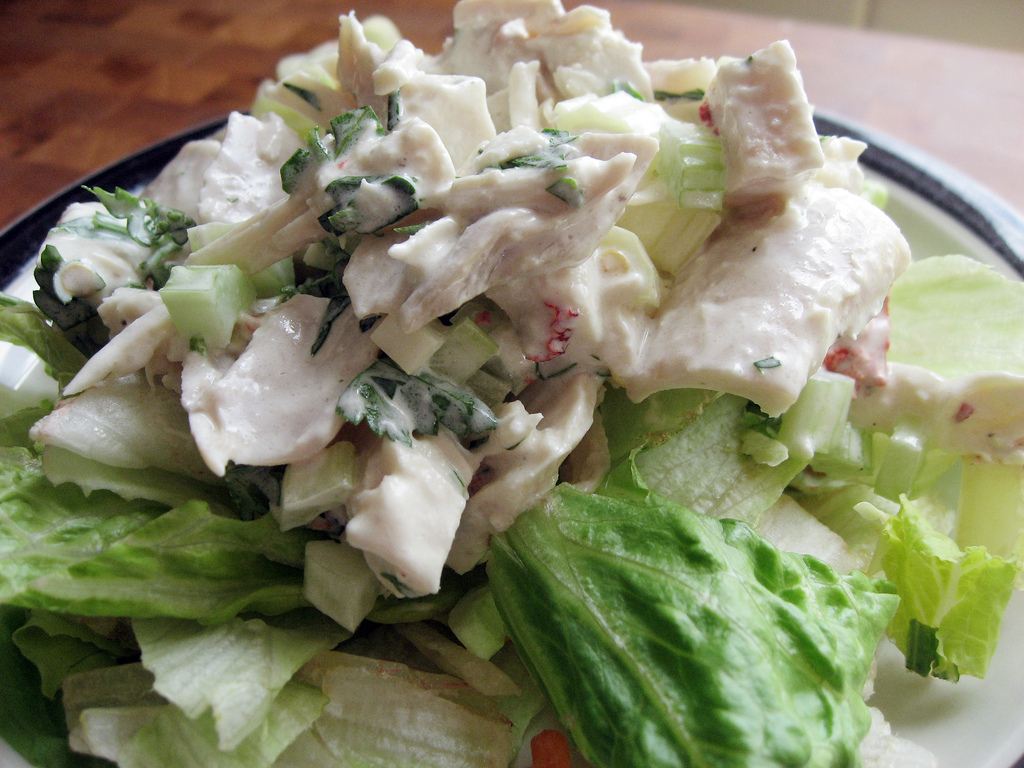chopped lettuce: (517, 375, 1024, 759), (1, 433, 363, 764)
